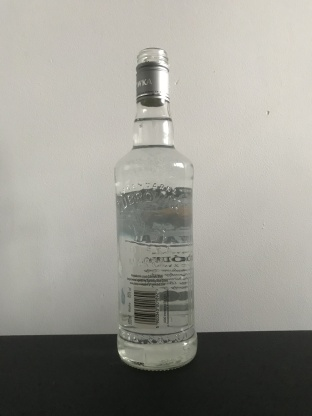nakretka: (133, 46, 171, 107)
